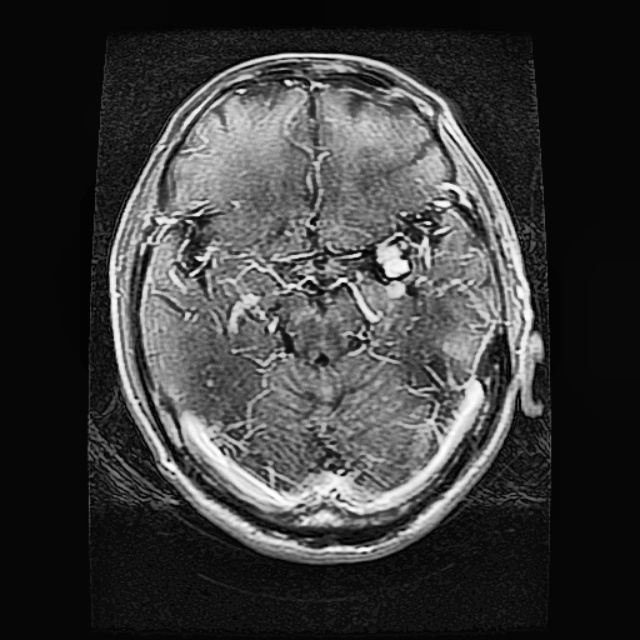Glioma: (370, 232, 413, 282)
